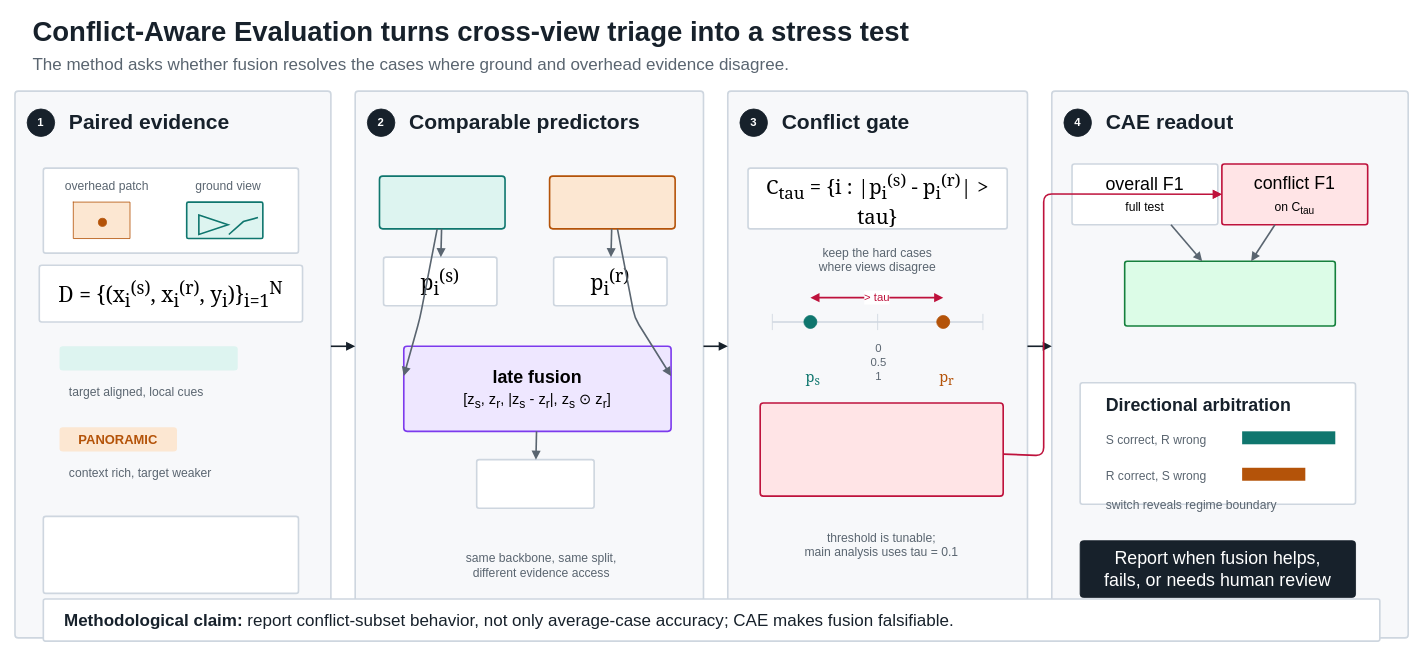
This 1422x655 diagram has some shape labels left out. The shapes that lost their labels are listed below. From the top down, each one's centre as x and y in pixels, then its label:
At (441,202): "E s (x i (s) )".
At (612,202): "E r (x i (r) )".
At (1229,293): "Delta view CV minus best single view".
At (148,358): "PROPERTY-CENTRIC".
At (881,449): "stress subset evaluate models where average F1 is least informative".
At (535,483): "p i (cv)".
At (170,554): "Observation regime observer-target geometry changes which view arbitrates".
